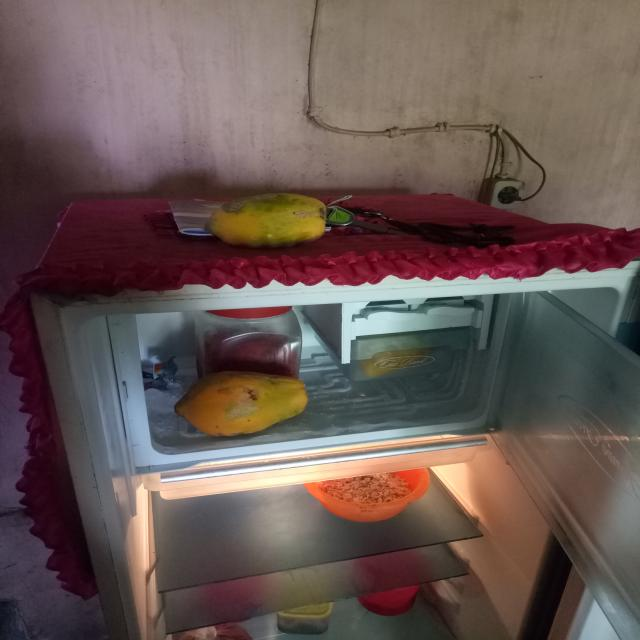Pepaya rippen: (174, 375, 318, 441), (208, 184, 337, 250)
